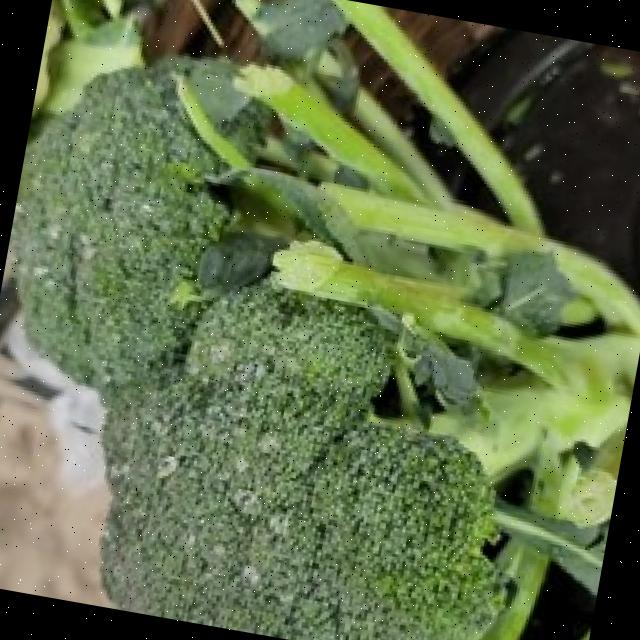Broccoli: (17, 61, 501, 640), (18, 62, 501, 640), (105, 284, 501, 640)
